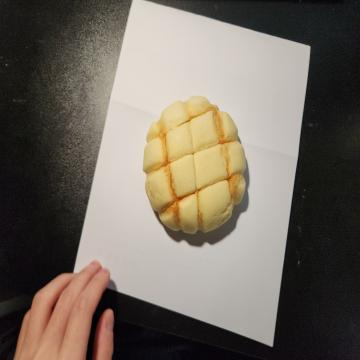melon_bread: (142, 96, 248, 238)
